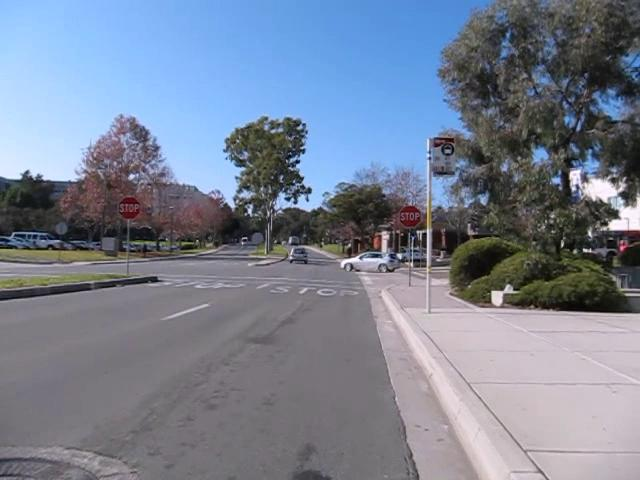stop: (397, 203, 423, 228), (117, 195, 142, 220)
